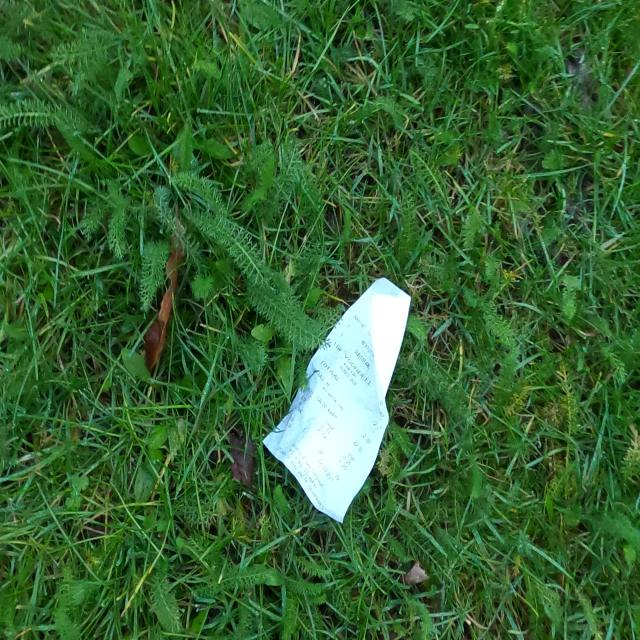Paper: (258, 270, 412, 528)
